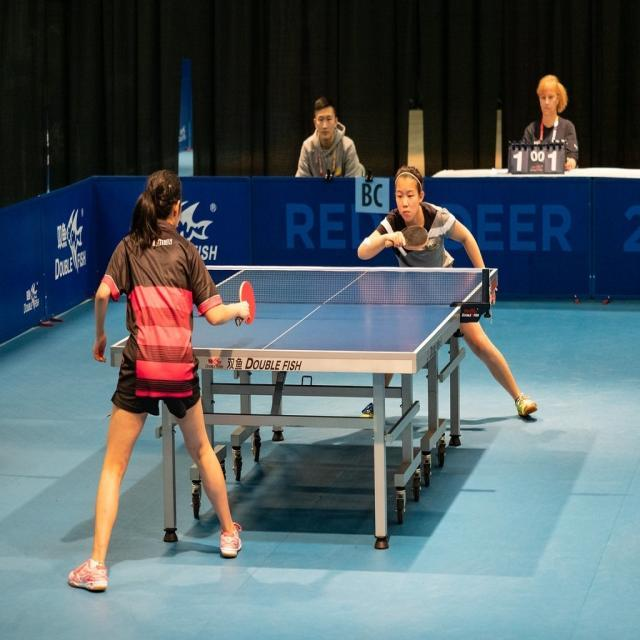TT Net: (144, 264, 491, 309)
TT Racket: (232, 275, 266, 331), (396, 220, 435, 254)
TT Table: (113, 266, 497, 352)
